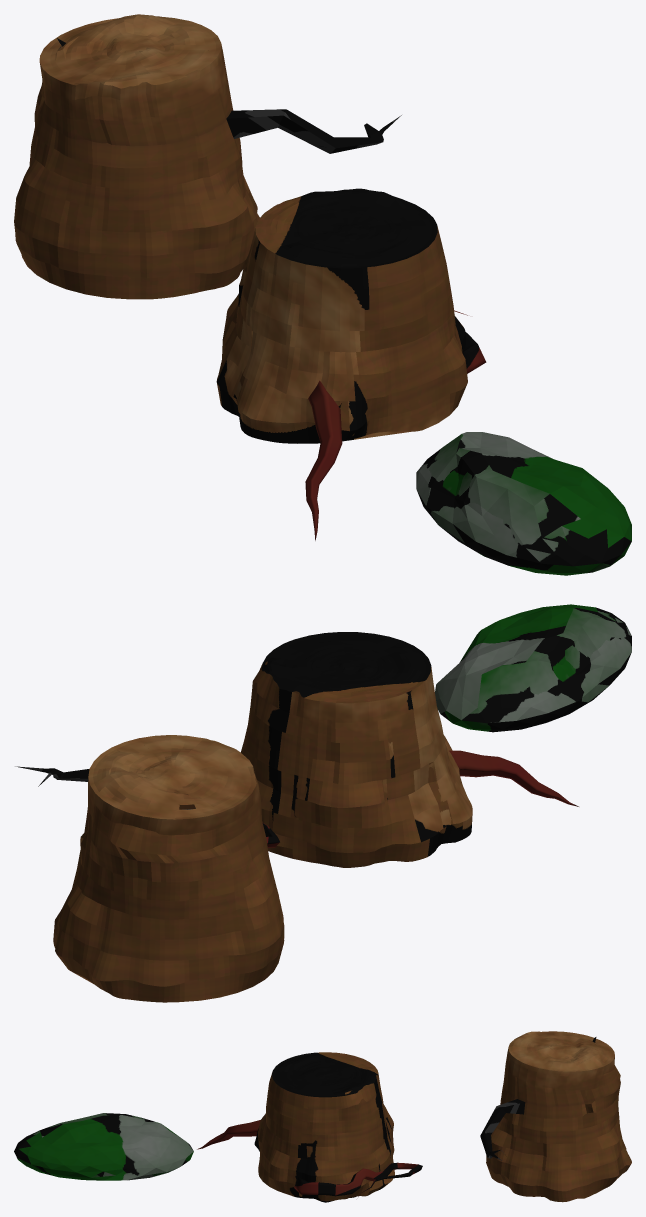
3 renders of one model, top to bottom at view 1: azimuth 30°, elevation 25°; view 2: azimuth 150°, elevation 25°; view 3: azimuth 270°, elevation 25°, orthographic. The views are drawn at different scales.
Visible parts, largest first — view 1: Stump_1, Stump_2, Rock_1, Stump_1.002, Stump_2.002; view 2: Stump_1, Stump_2, Rock_1, Stump_2.002, Stump_1.002; view 3: Stump_1, Stump_2, Rock_1, Stump_2.007, Stump_1.002, Stump_2.002.
Boxes of the visible parts, x1,y1,x2,y2 form: Stump_1: [14, 14, 259, 299]; Stump_2: [216, 188, 467, 443]; Rock_1: [416, 432, 631, 575]; Stump_1.002: [226, 109, 401, 153]; Stump_2.002: [305, 380, 342, 540]; Stump_1: [53, 735, 284, 1002]; Stump_2: [240, 632, 472, 867]; Rock_1: [435, 604, 631, 732]; Stump_2.002: [449, 750, 578, 806]; Stump_1.002: [15, 766, 89, 786]; Stump_1: [486, 1031, 631, 1202]; Stump_2: [254, 1052, 394, 1202]; Rock_1: [14, 1113, 193, 1180]; Stump_2.007: [294, 1162, 422, 1196]; Stump_1.002: [480, 1099, 525, 1160]; Stump_2.002: [197, 1120, 260, 1149].
Size of what is drawn, in the model's own units: 228 by 57.7 by 87.01.
